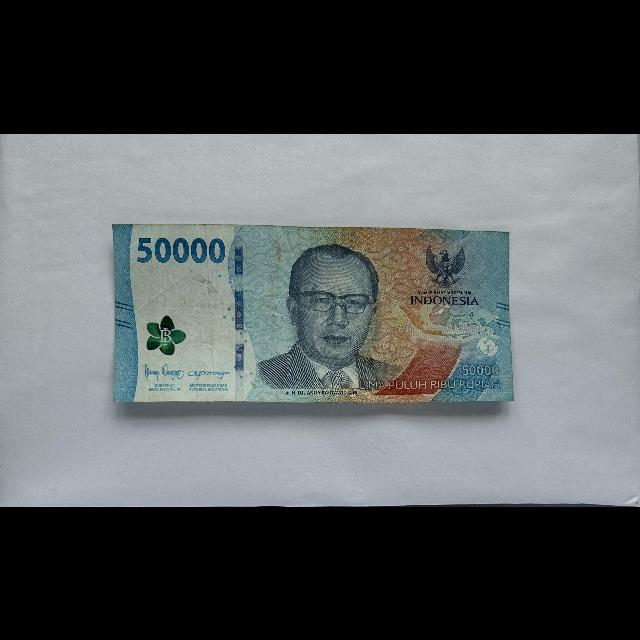Asli-50k: (110, 221, 516, 404)
Tinta-Asli-50k: (147, 313, 188, 355)
